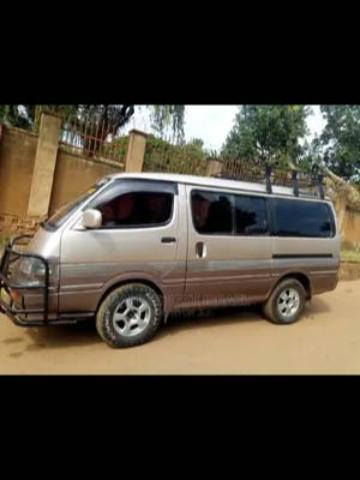van: (1, 169, 336, 347)
